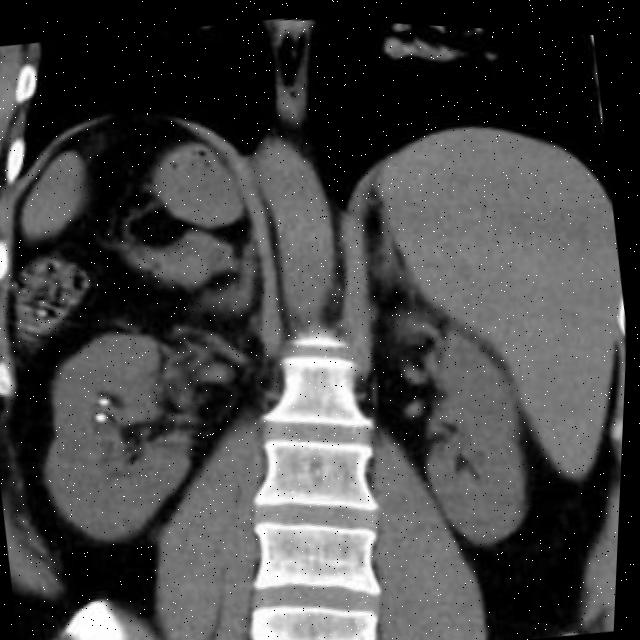Tas_Var: (102, 389, 117, 410), (99, 407, 114, 422)
